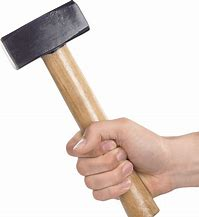hammer: (1, 1, 161, 217)
